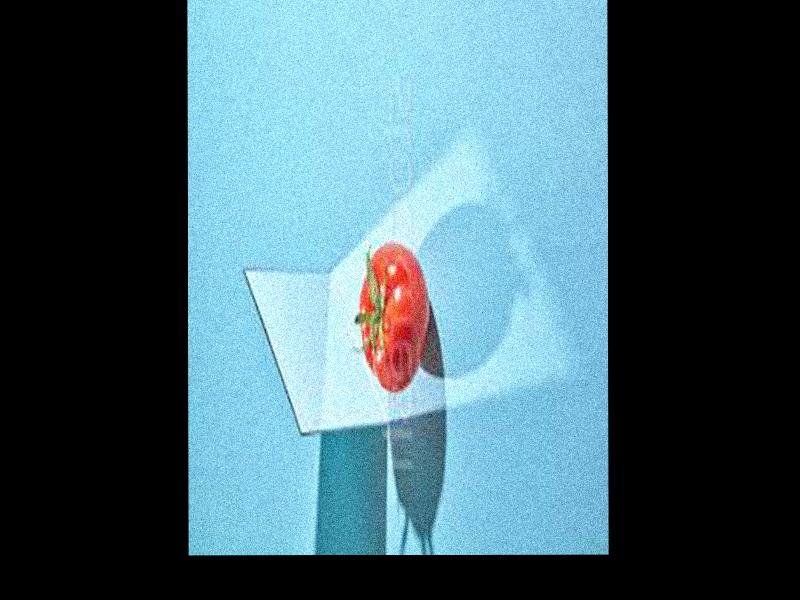Tomato: (359, 243, 429, 393)
